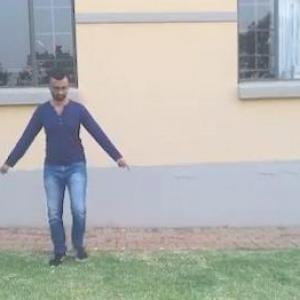land: (0, 62, 130, 279)
